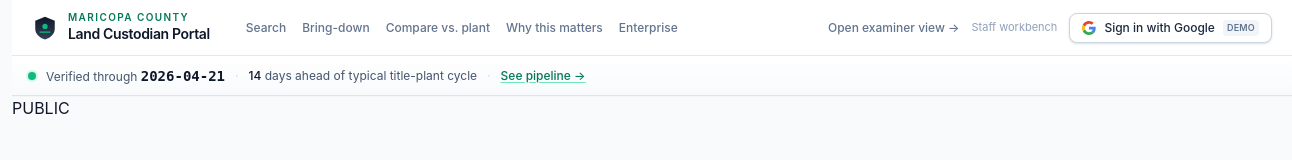
it: HeaderBar in RootLayout › flips to avatar menu after sign-in
Click the button "Sign in with Google Demo" at (1171, 28), box [1069, 12, 1272, 42]
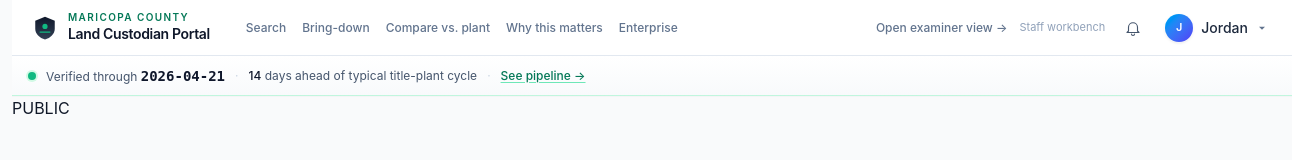
Expected: the button "J Jordan" is shown, [1161, 12, 1272, 44]
